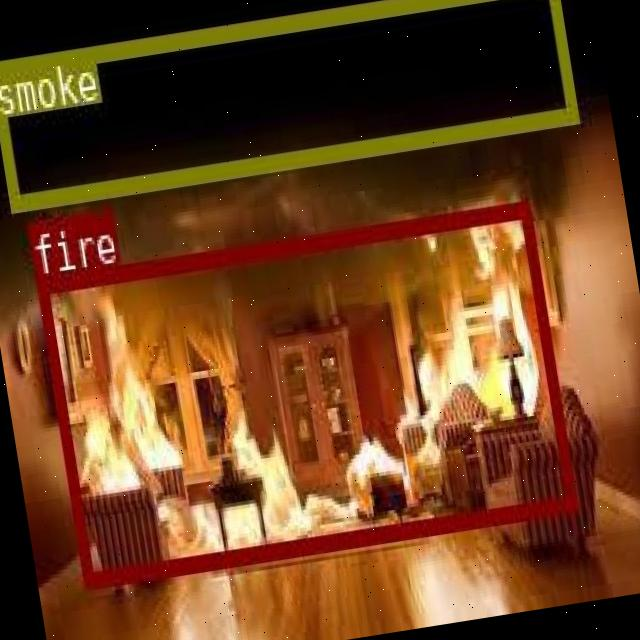fire: (35, 200, 577, 587)
smoke: (0, 0, 577, 210)
